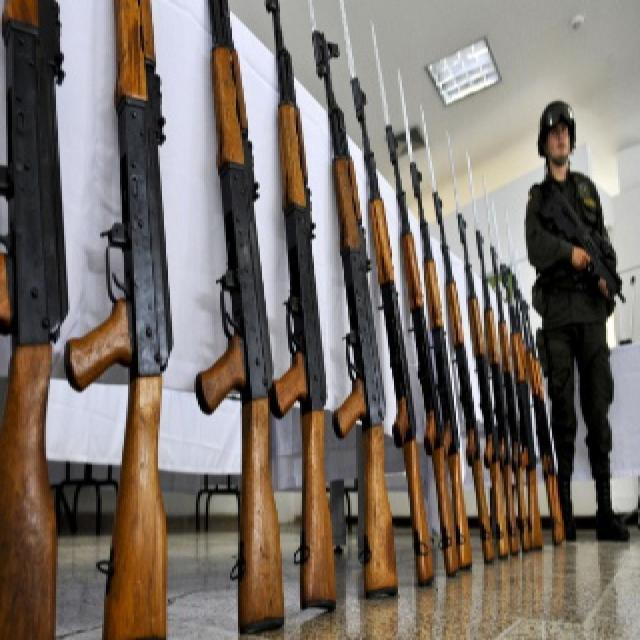Rifle: (302, 12, 412, 598), (188, 2, 282, 638), (266, 2, 334, 619)
